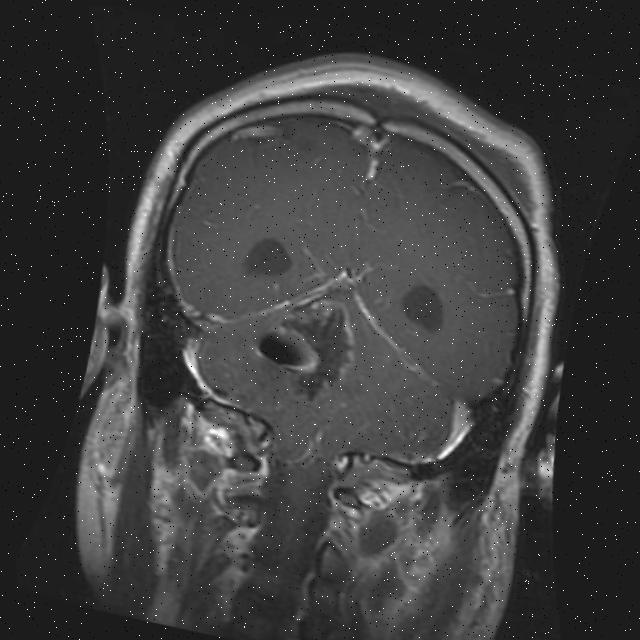Glioma: (249, 317, 325, 378)
